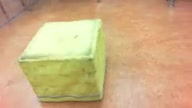cube: (18, 18, 105, 101)
